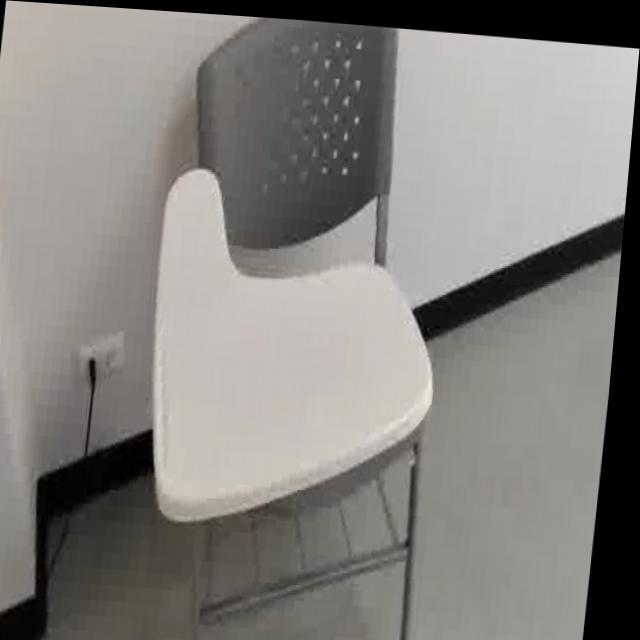chair: (88, 7, 510, 640)
